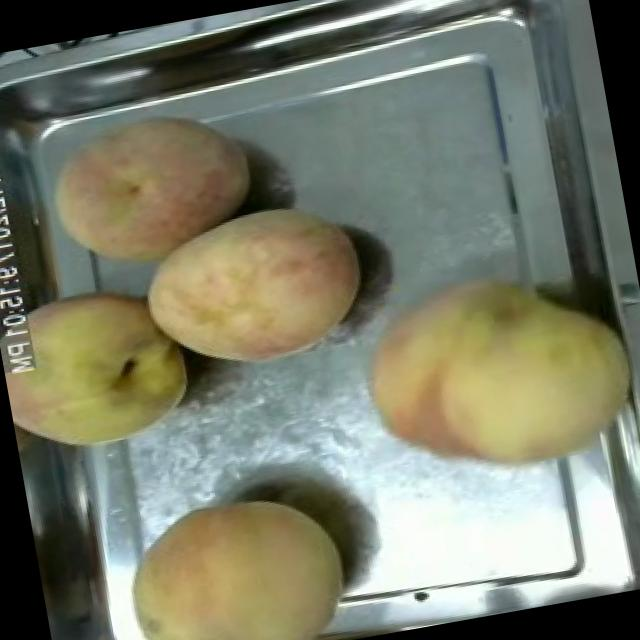Fruit: (339, 240, 640, 505), (124, 181, 380, 390), (25, 86, 276, 296), (103, 467, 365, 640), (0, 262, 210, 472)
